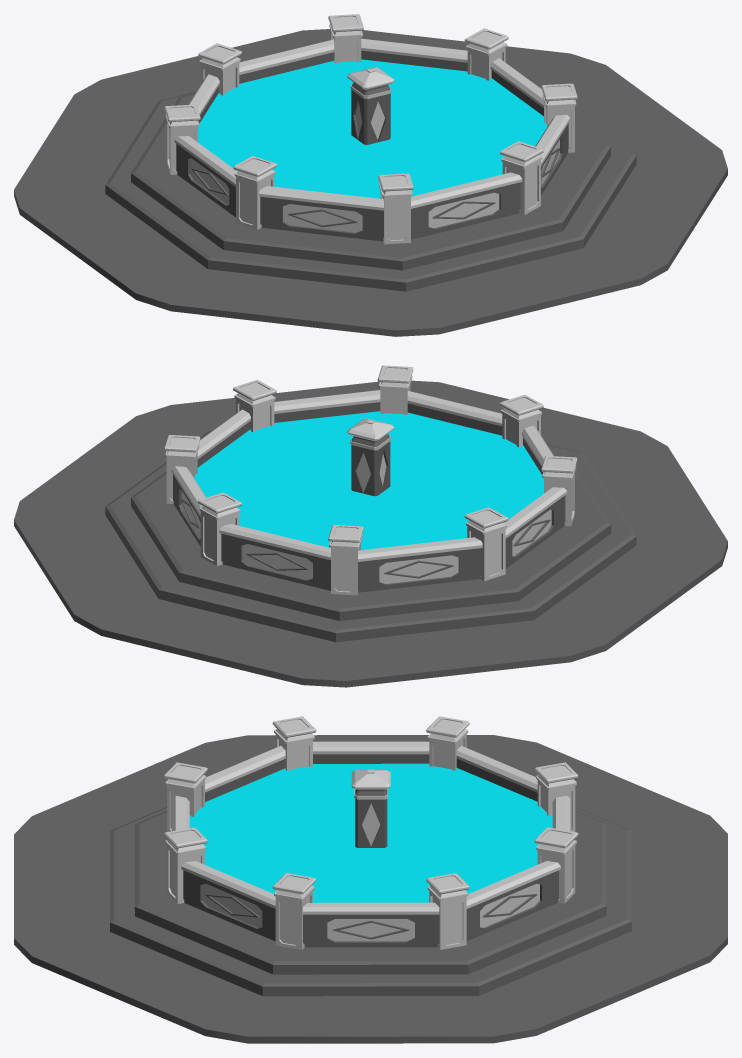
Rendered from fountain_b.FBX.
3 renders of one model, top to bottom at view 1: azimuth 30°, elevation 25°; view 2: azimuth 150°, elevation 25°; view 3: azimuth 270°, elevation 25°, orthographic. The views are drawn at different scales.
Visible parts, largest first — view 1: fountain_b_LOD0; view 2: fountain_b_LOD0; view 3: fountain_b_LOD0.
Boxes of the visible parts, left/top/right/bottom form: fountain_b_LOD0: left=14, top=14, right=727, bottom=336; fountain_b_LOD0: left=14, top=365, right=727, bottom=687; fountain_b_LOD0: left=14, top=716, right=727, bottom=1043.
Size of what is drawn, in the model's own units: 1757 by 331 by 1756.
